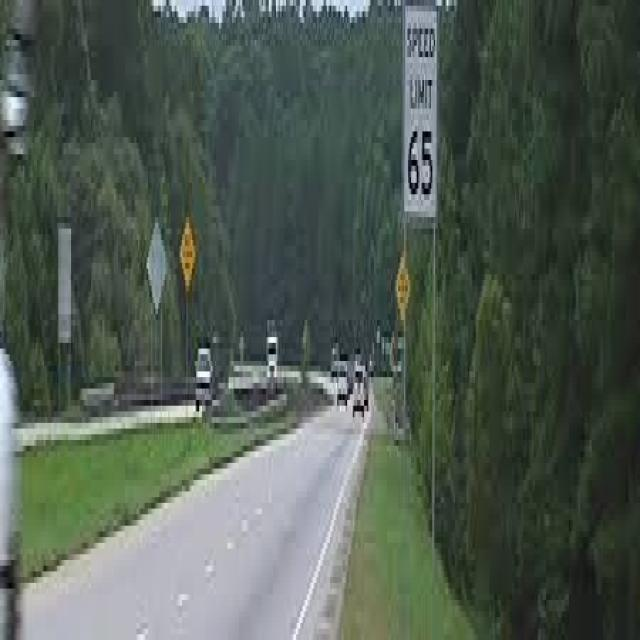speedLimit65: (400, 3, 439, 220)
